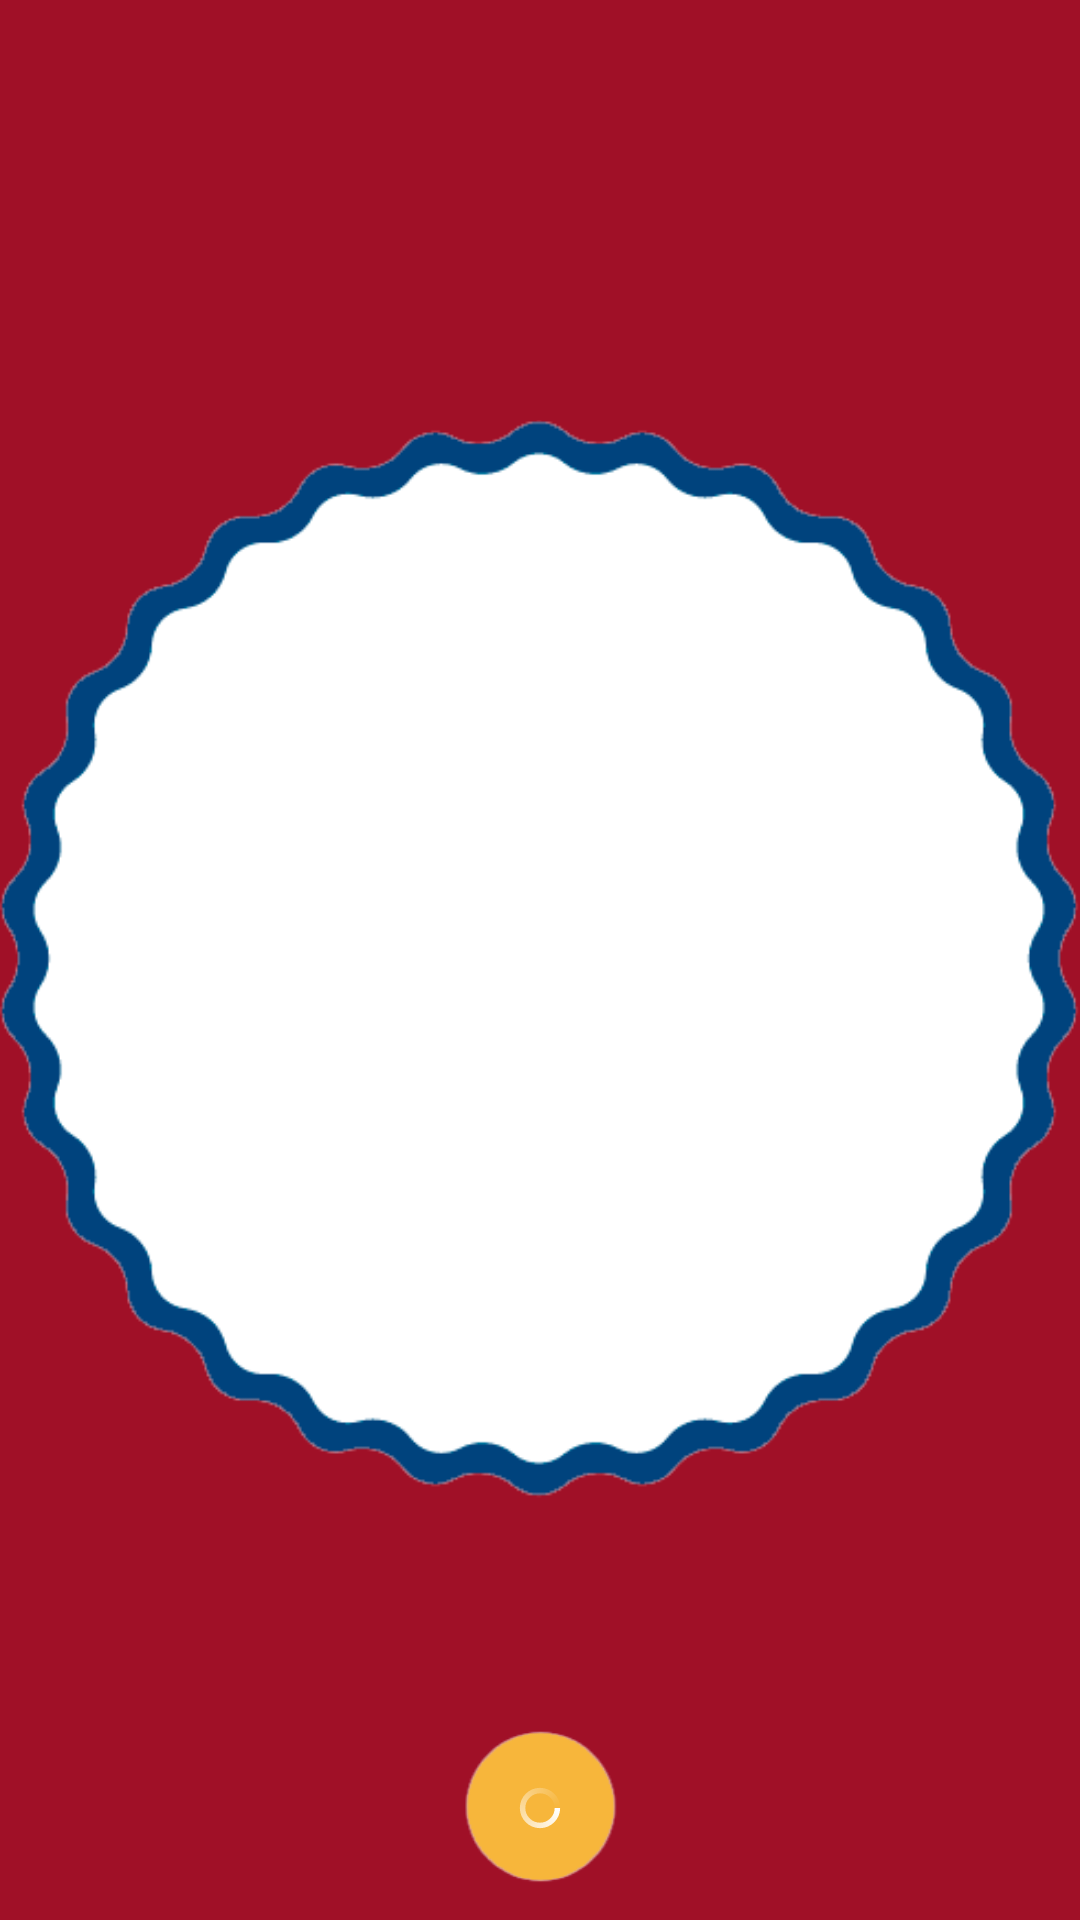

Icon bounding boxes for this 1080px×1920px phone screenshot, format (x1, y1, x2, y2):
loading: (465, 1731, 616, 1882)
